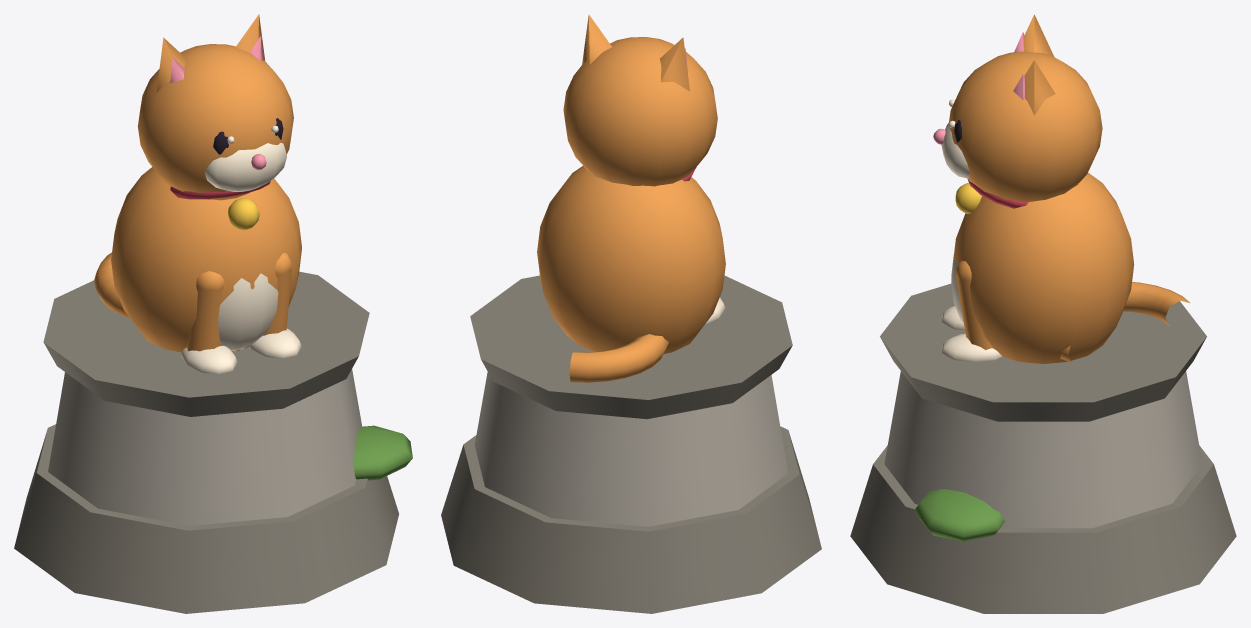
File: statue_chat.glb
3 renders of one model, left to right at view 1: azimuth 30°, elevation 25°; view 2: azimuth 150°, elevation 25°; view 3: azimuth 270°, elevation 25°, orthographic.
Visible parts, largest first — view 1: statue_chat; view 2: statue_chat; view 3: statue_chat.
Part boxes in pixels (x1,y1,x2,y2): statue_chat: (14, 14, 412, 613); statue_chat: (441, 14, 821, 613); statue_chat: (850, 14, 1236, 613).
Bounding box in the file's own units: 1.62 × 2.42 × 1.7.
